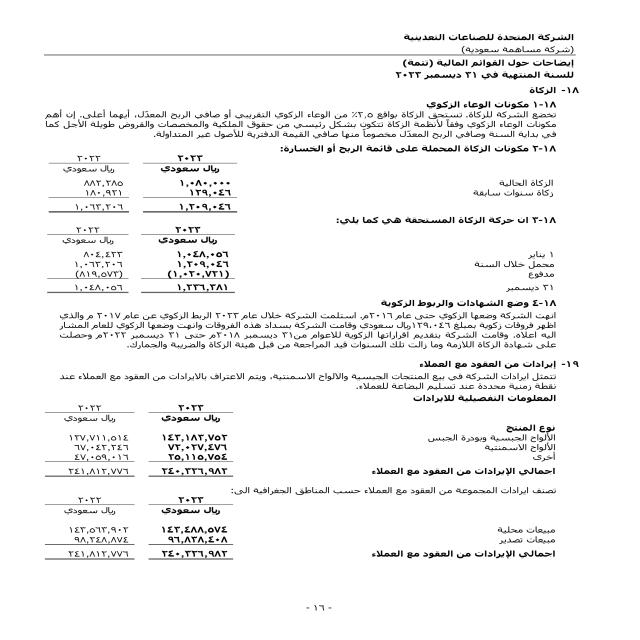notes: (393, 58, 579, 71)
table: (40, 396, 235, 487), (40, 224, 236, 298), (36, 148, 248, 216), (39, 494, 228, 569)
